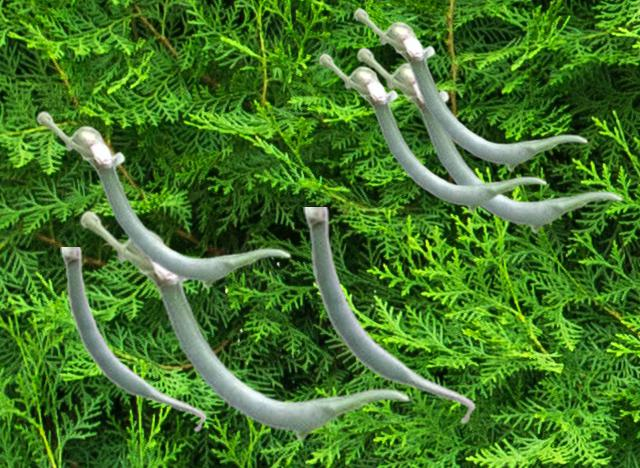french_bean: (79, 209, 409, 441), (356, 46, 622, 233), (36, 110, 290, 288), (353, 7, 587, 171), (303, 207, 475, 424), (318, 52, 546, 212), (60, 247, 206, 432)
